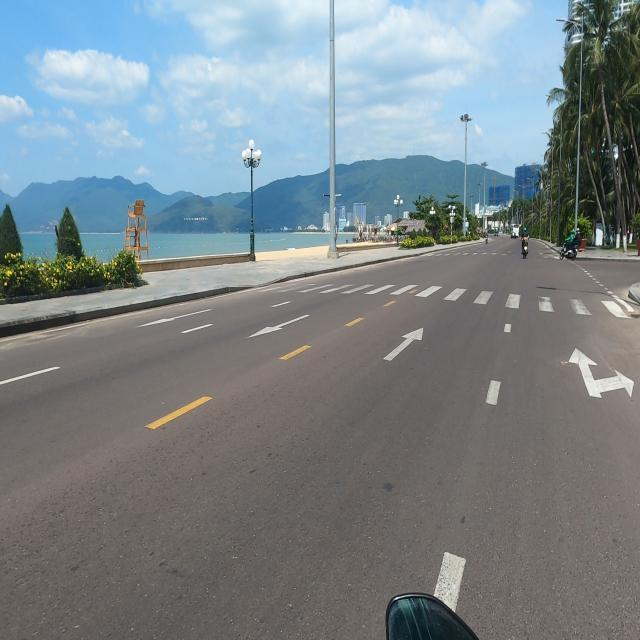walk-crossing: (254, 278, 632, 320)
